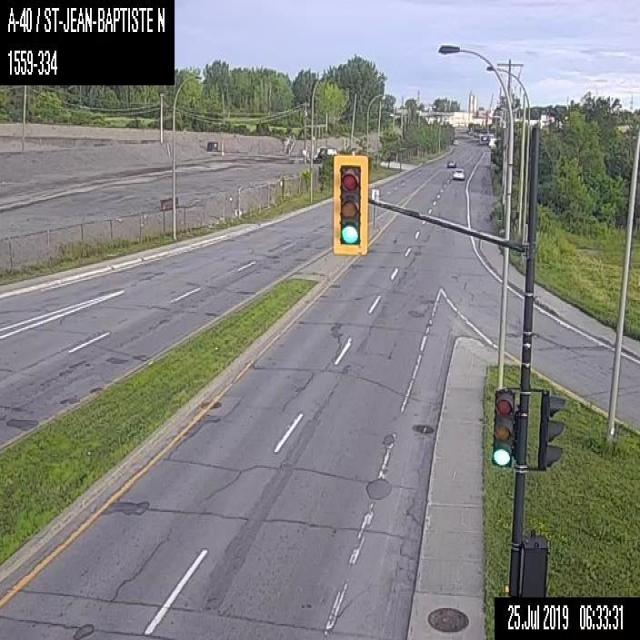vehicle: (452, 168, 464, 180), (447, 159, 456, 166)
